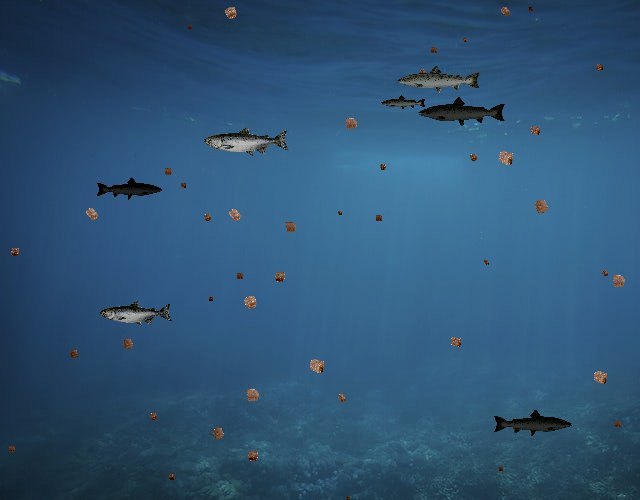Fish: (418, 96, 508, 128), (396, 64, 482, 95), (204, 126, 290, 157), (492, 409, 573, 438), (100, 300, 173, 326), (96, 176, 164, 201), (381, 95, 428, 112)
Pellet: (239, 382, 266, 409), (339, 111, 364, 136), (242, 445, 264, 467), (495, 1, 515, 21), (372, 211, 386, 225), (177, 179, 190, 192), (460, 34, 470, 44)
